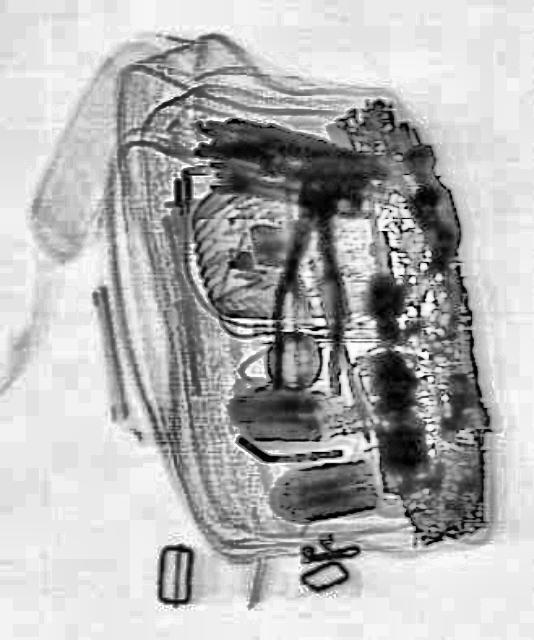Pliers: (263, 166, 353, 394)
